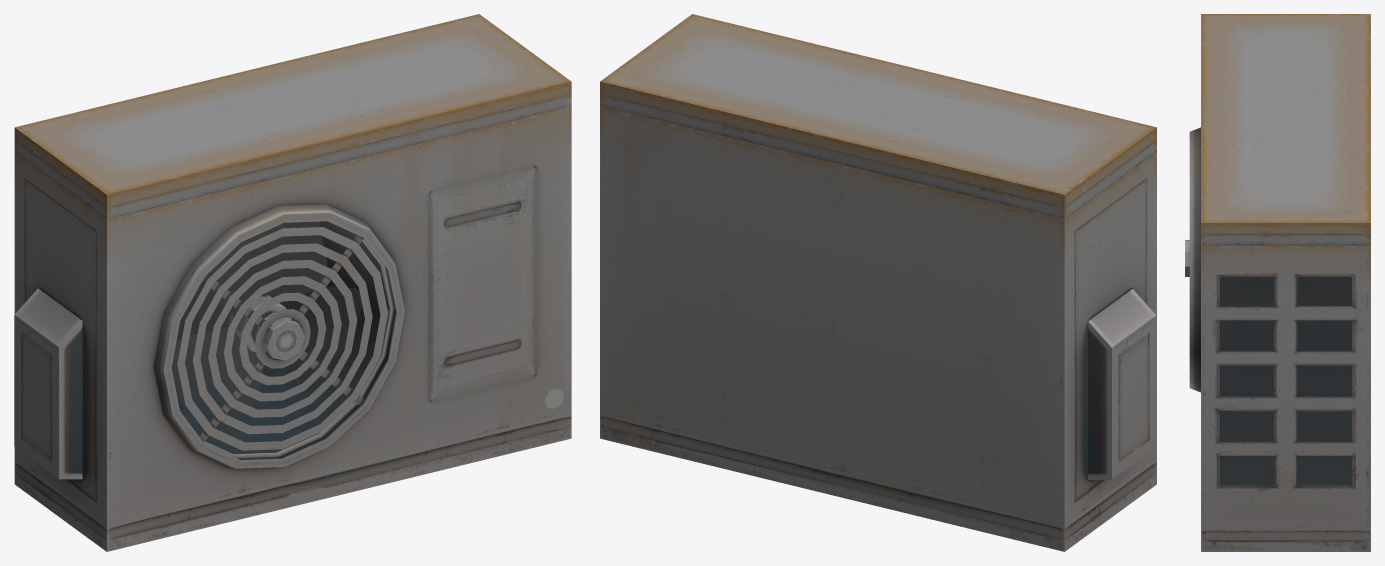
File: Outdoorunit.fbx
The picture shows the model from 3 angles, left to right: view 1: azimuth 30°, elevation 25°; view 2: azimuth 150°, elevation 25°; view 3: azimuth 270°, elevation 25°; orthographic projection. The views are drawn at different scales.
Parts seen in each view (by area): view 1: Outdoorunit; view 2: Outdoorunit; view 3: Outdoorunit.
Part boxes in pixels (x1,y1,x2,y2): Outdoorunit: [14, 14, 571, 551]; Outdoorunit: [600, 14, 1156, 551]; Outdoorunit: [1185, 14, 1370, 551].
Size of the model in its own units: 115 by 80.06 by 40.97.
